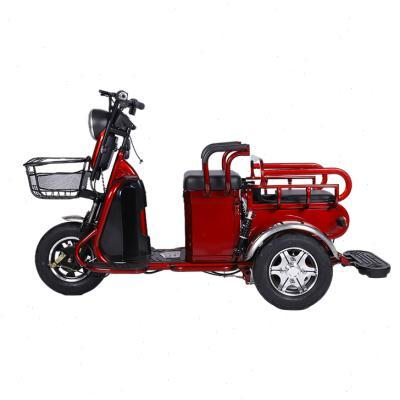empty: (20, 71, 389, 312)
